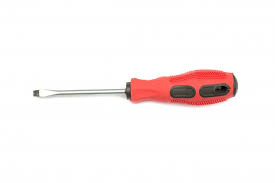Screwdriver: (30, 60, 245, 117)
